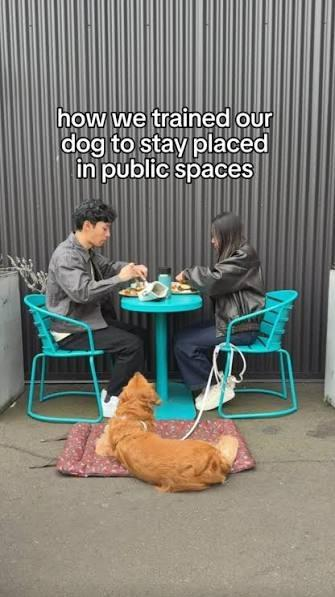adult_dog: (95, 372, 240, 494)
